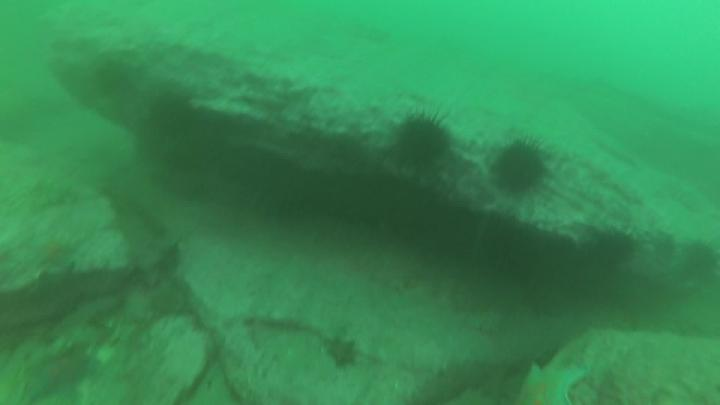echinus: (489, 133, 556, 203), (392, 107, 457, 177), (144, 90, 205, 148), (586, 226, 639, 273), (676, 238, 720, 286), (92, 61, 136, 107)
holothurian: (1, 173, 80, 210)
starfish: (18, 342, 97, 405), (509, 357, 588, 405), (26, 238, 83, 277), (322, 333, 365, 374)
